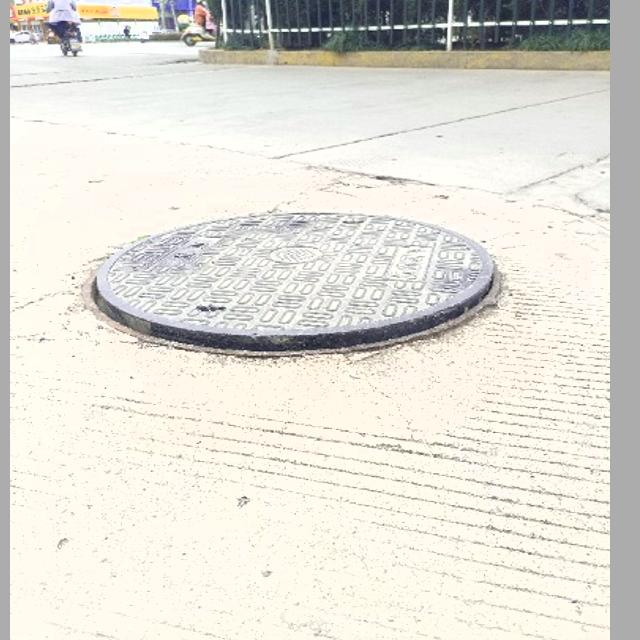good: (80, 210, 502, 358)
